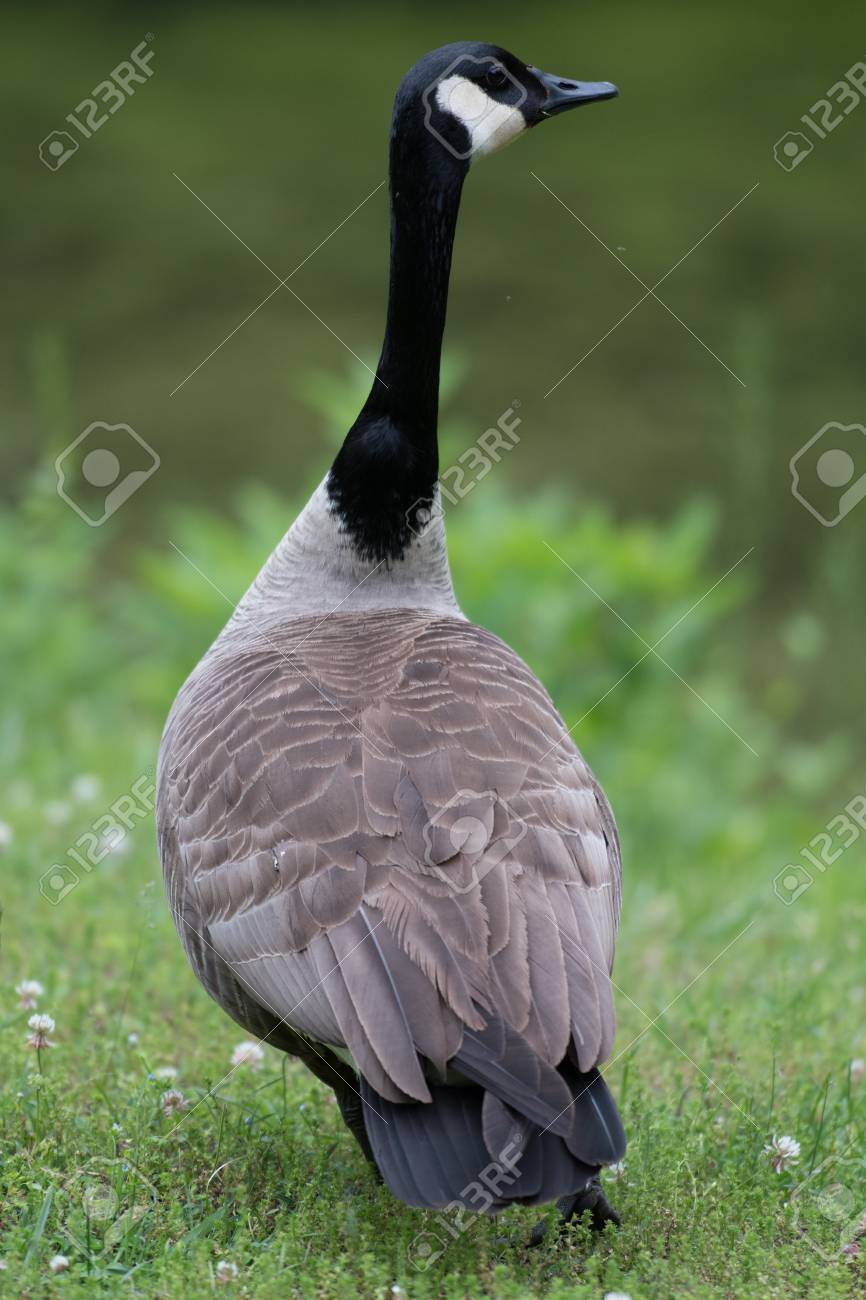goose: (132, 33, 640, 1242)
